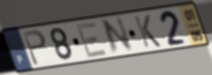2: (159, 8, 190, 49)
8: (49, 27, 74, 61)
E: (75, 20, 110, 60)
K: (132, 13, 163, 49)
N: (100, 15, 135, 57)
P: (21, 28, 49, 68)
